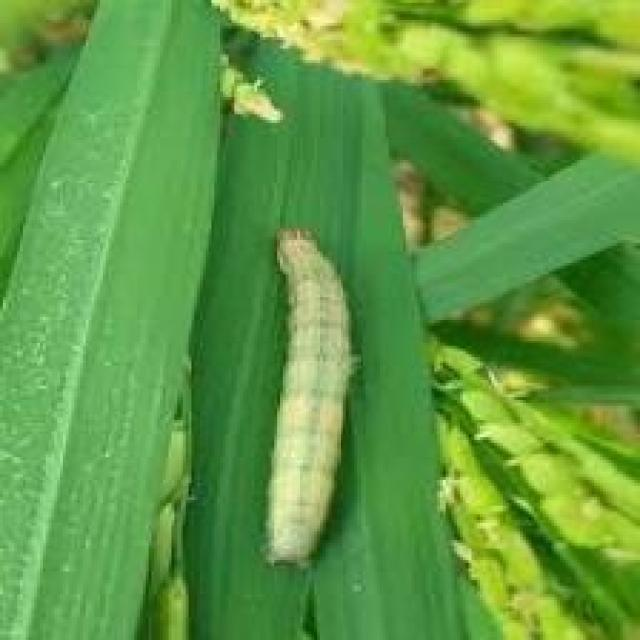pest: (265, 240, 361, 551)
